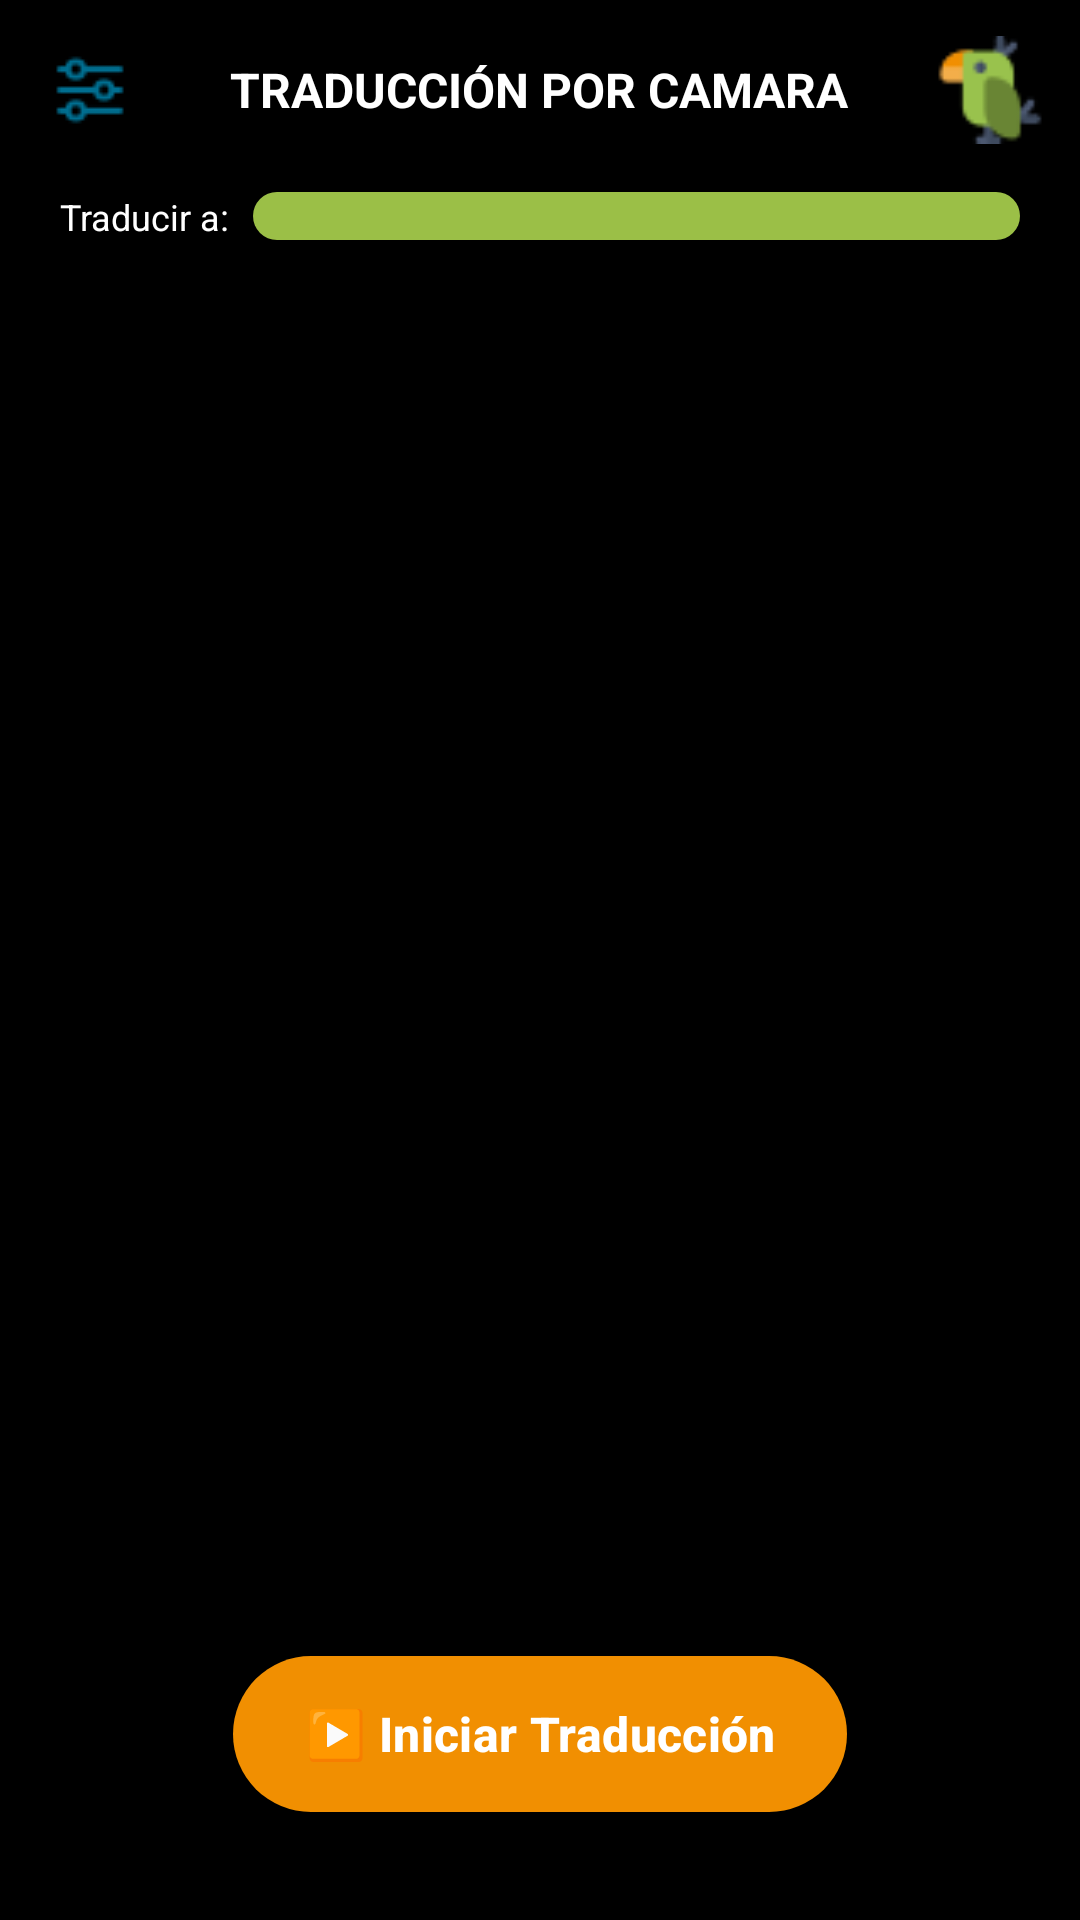

Icons on this 1080 x 1920 Android screen, each with the point to tap as [x,y]:
Configuración: [90,90]
parrot: [989,90]
